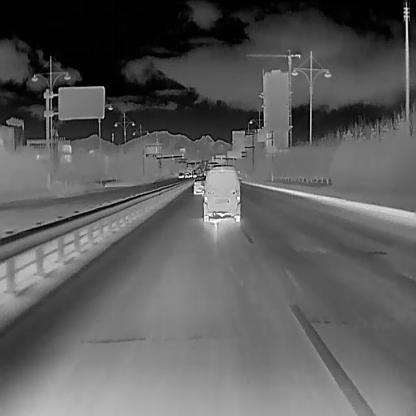car: (202, 164, 241, 223), (192, 175, 204, 195), (177, 171, 183, 178), (185, 171, 189, 178)
